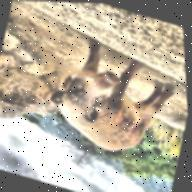boar: (36, 29, 186, 168)
